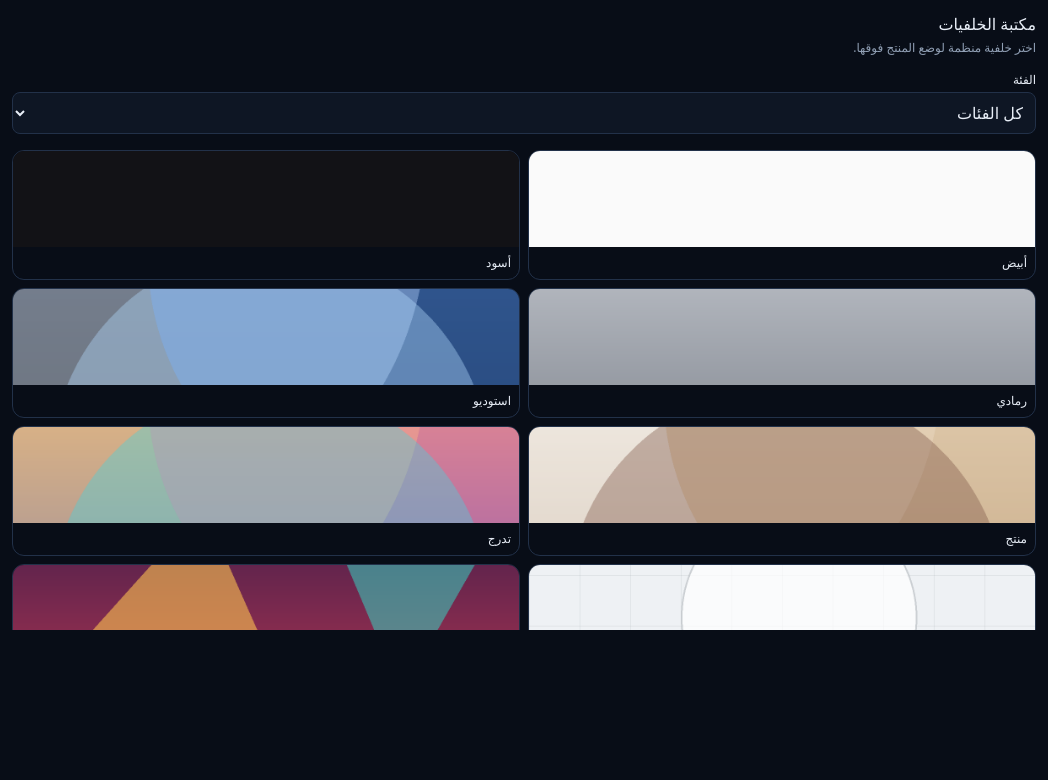
Test: filters the library by category
Select "استوديو" in the dropdown labelled "الفئة" at (524,113), box x1=12 y1=92 x2=1036 y2=134
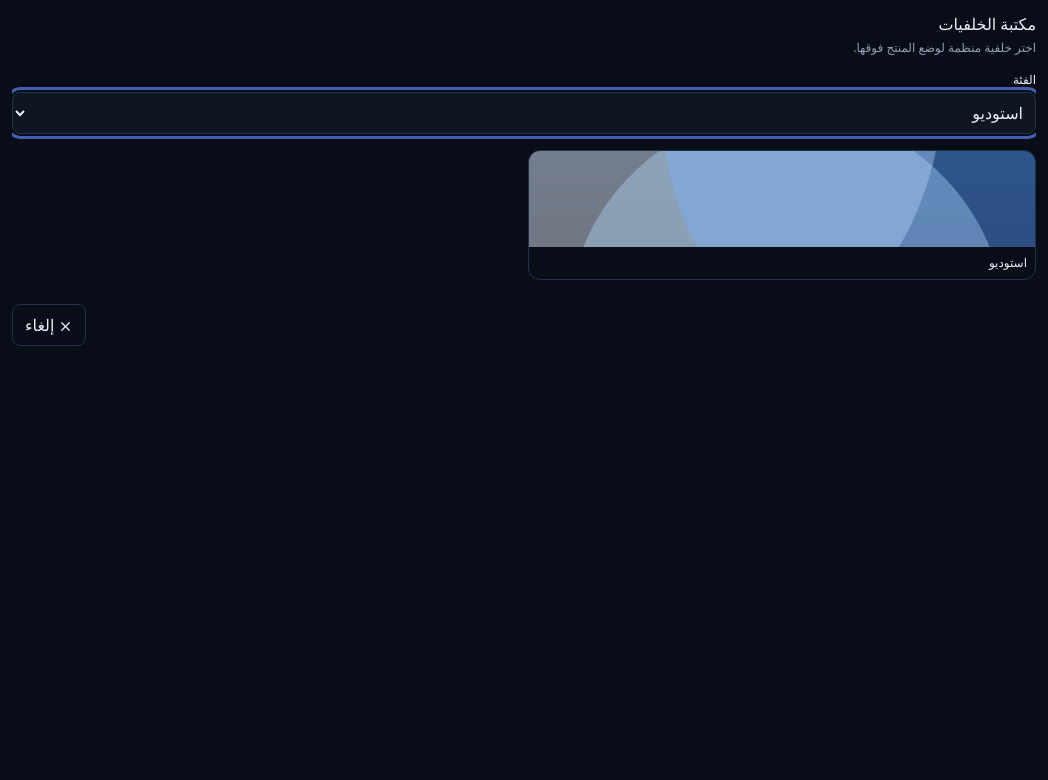
Check: the button "استوديو" is shown, box x1=528 y1=150 x2=1036 y2=280
Check: the button "أبيض" is gone
